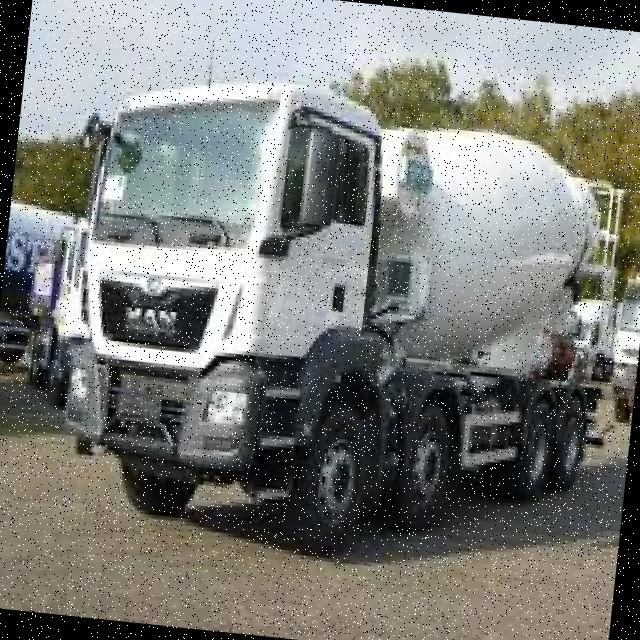Mixer Truck: (36, 57, 636, 586)
